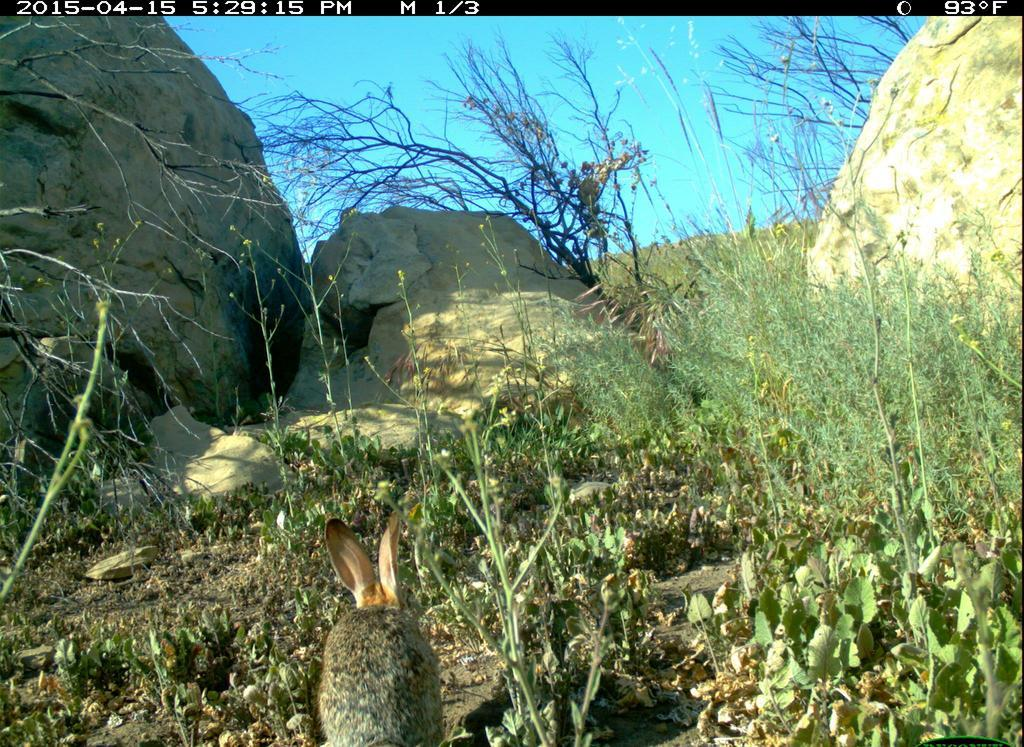rabbit: (310, 509, 452, 745)
